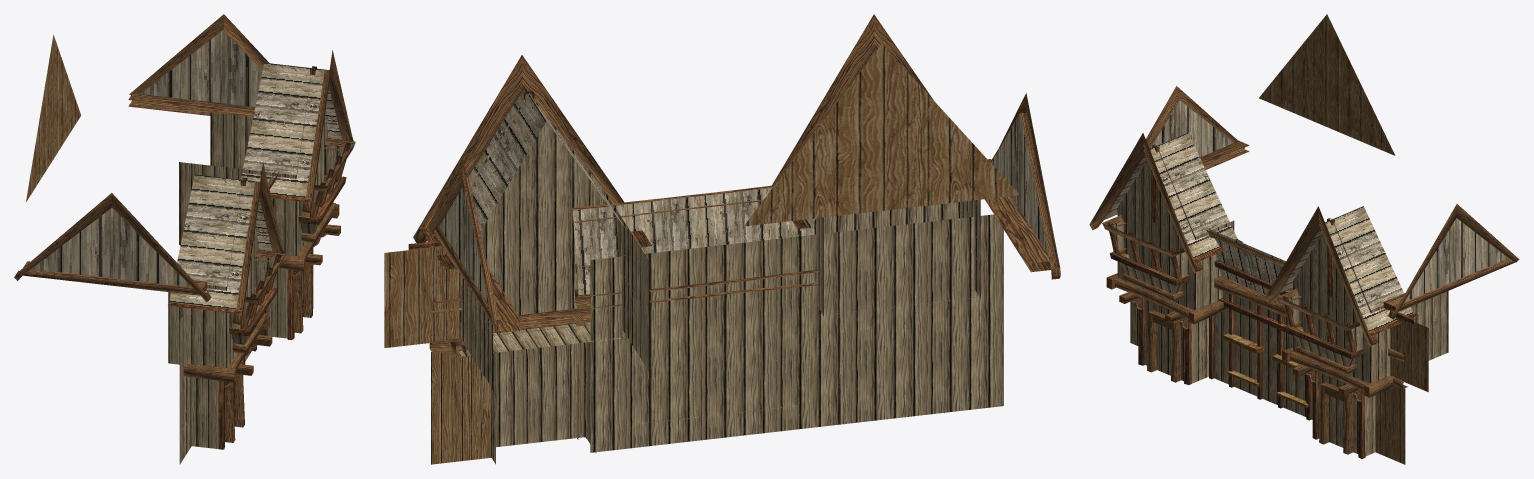
The model's file is LAKETOWN_EXTERIOR_PS_LT_BAKERHOUSE746__GX.fbx.
3 renders of one model, left to right at view 1: azimuth 30°, elevation 25°; view 2: azimuth 150°, elevation 25°; view 3: azimuth 270°, elevation 25°, orthographic. The views are drawn at different scales.
Visible parts, largest first — view 1: LAKETOWN_EXTERIOR_PS_LT_BAKERHOUSE746__GX; view 2: LAKETOWN_EXTERIOR_PS_LT_BAKERHOUSE746__GX; view 3: LAKETOWN_EXTERIOR_PS_LT_BAKERHOUSE746__GX.
Part boxes in pixels (x1,y1,x2,y2): LAKETOWN_EXTERIOR_PS_LT_BAKERHOUSE746__GX: (14, 14, 355, 464); LAKETOWN_EXTERIOR_PS_LT_BAKERHOUSE746__GX: (384, 14, 1060, 464); LAKETOWN_EXTERIOR_PS_LT_BAKERHOUSE746__GX: (1089, 14, 1519, 464).
Size of the model in its own units: 176481 by 145758 by 176382.
Materials: 10 (10 with a texture image).
